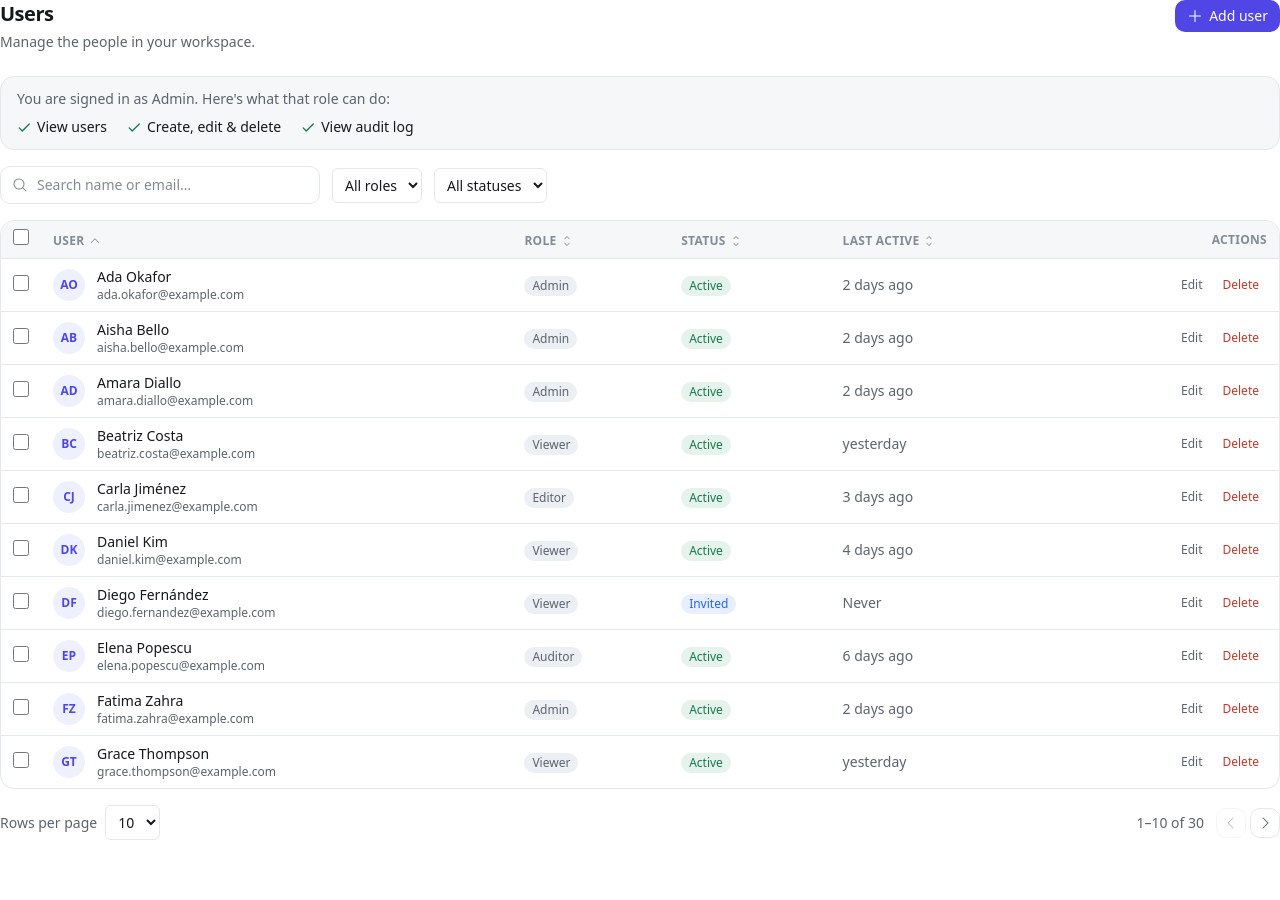
Test: UsersPage › creates a user through the modal and toasts on success
The image size is (1280, 900).
Expected: the text "Ada Okafor" is shown, [97,267,171,286]
Click the button "Add user" at {"x": 1228, "y": 16}, box [1175,0,1279,32]
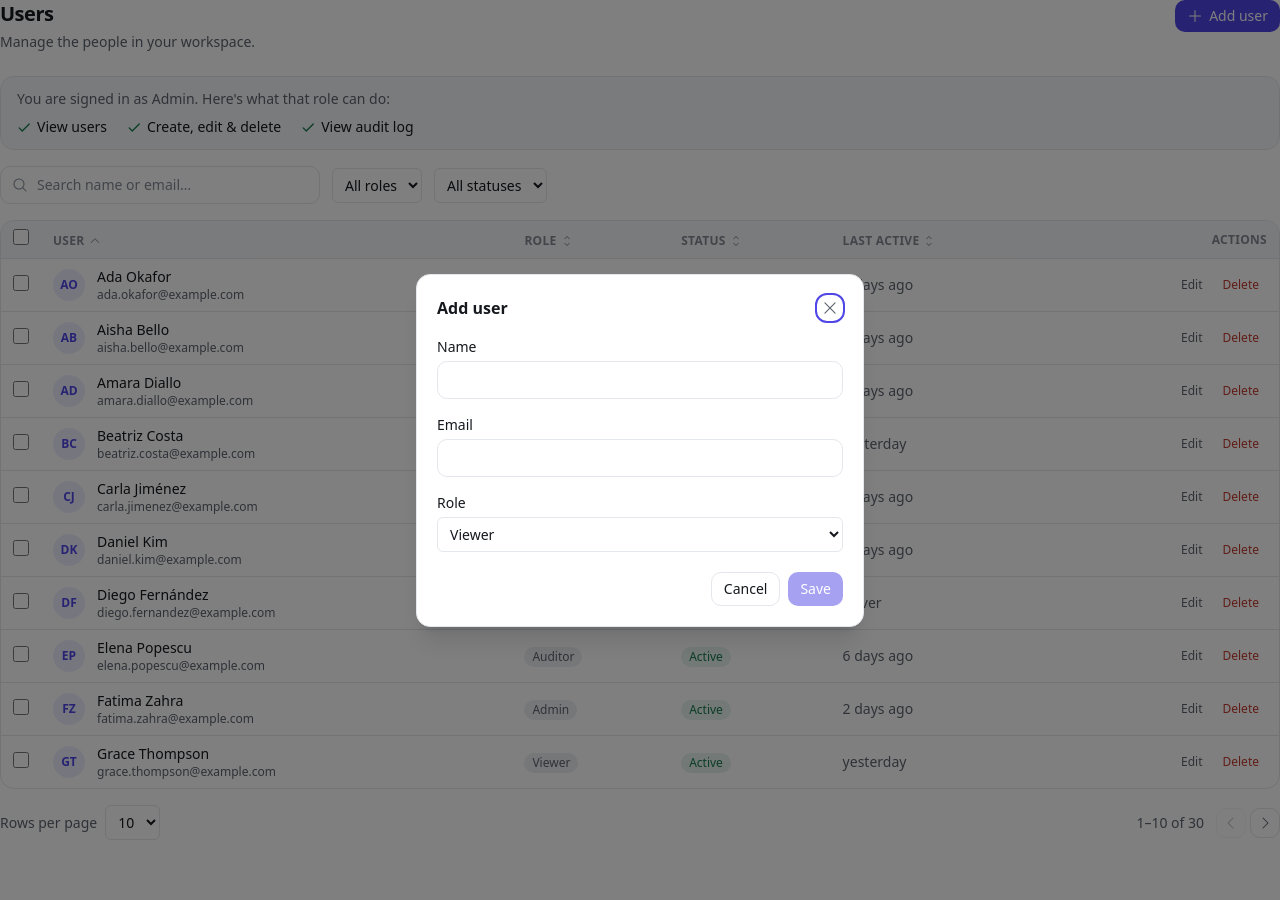
Type "New Person" into the field labelled "Name" at {"x": 640, "y": 380}, box [437,360,843,398]
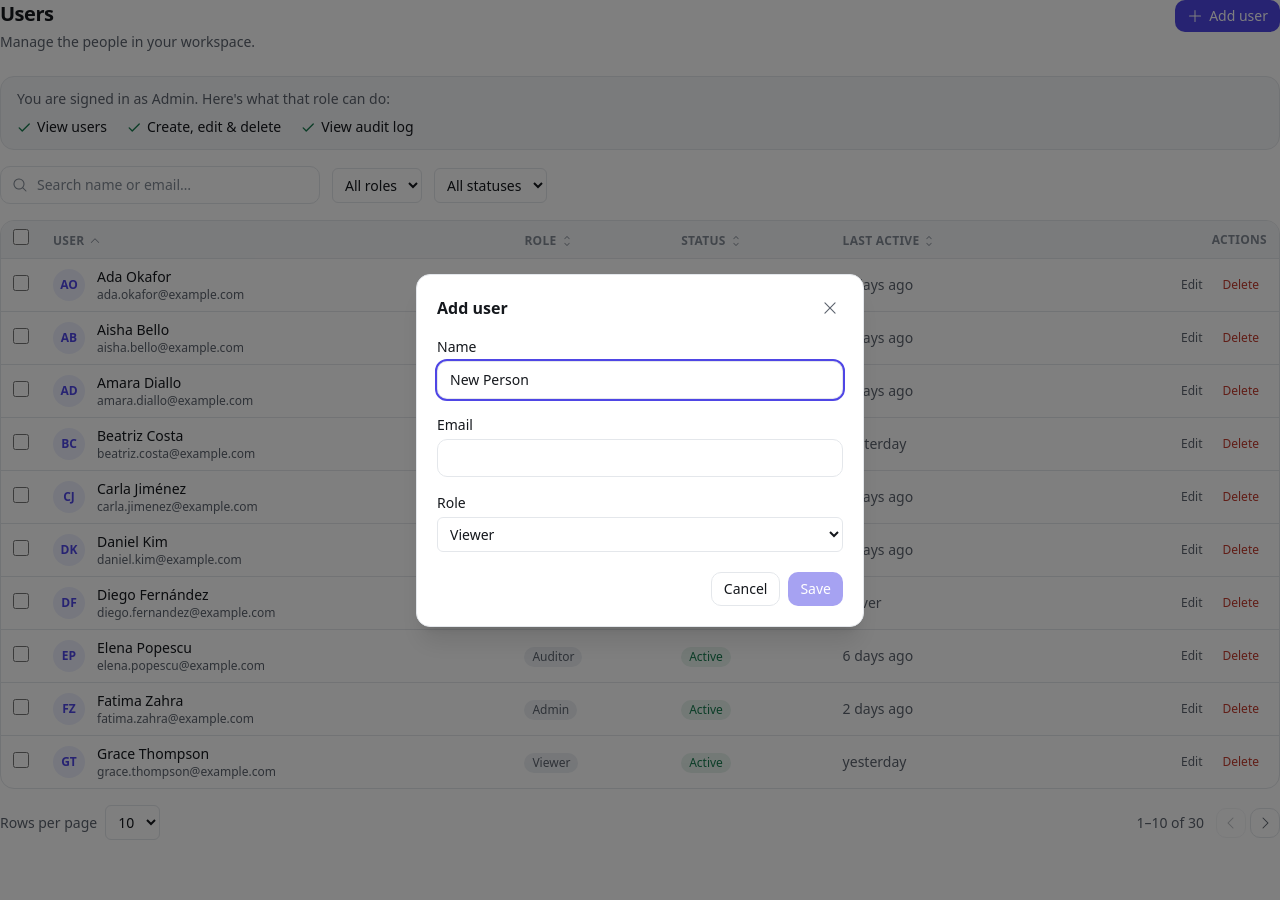
Type "new@example.com" into the field labelled "Email" at {"x": 640, "y": 458}, box [437,438,843,476]
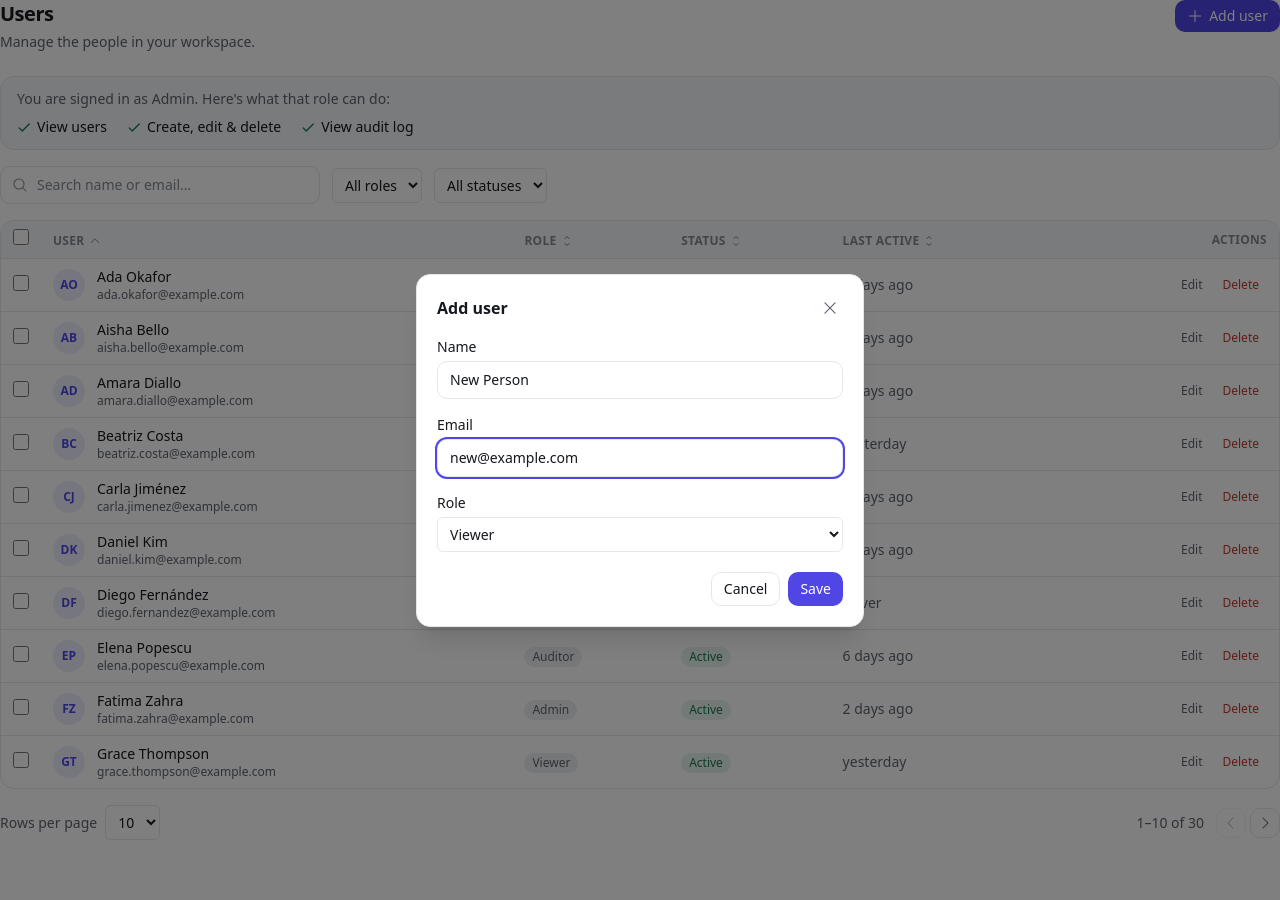
Click the button "Save" at {"x": 816, "y": 588}, box [788,572,843,606]
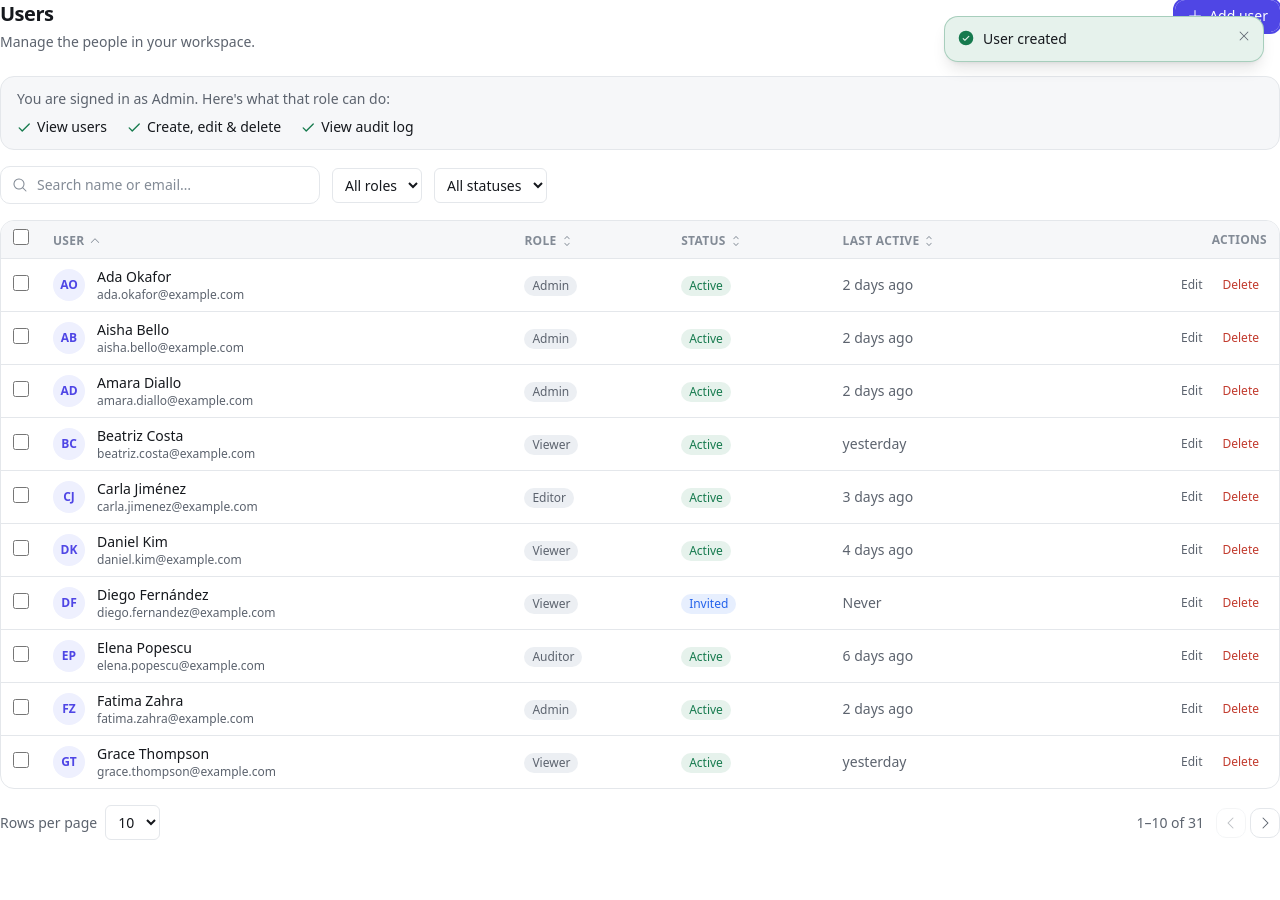
Now the text "User created" is shown, box [983,29,1067,48]
